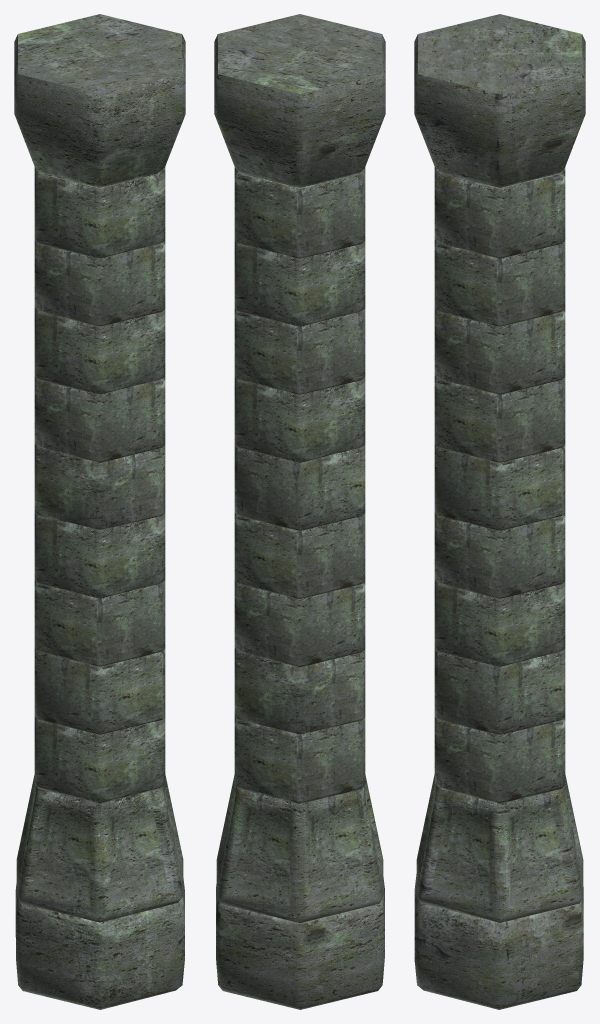
Rendered from bigmodularcolumn.fbx.
The picture shows the model from 3 angles, left to right: view 1: azimuth 30°, elevation 25°; view 2: azimuth 150°, elevation 25°; view 3: azimuth 270°, elevation 25°; orthographic projection.
Parts seen in each view (by area): view 1: Mesh Object; view 2: Mesh Object; view 3: Mesh Object.
Part boxes in pixels (x1,y1,x2,y2): Mesh Object: (14, 14, 185, 1009); Mesh Object: (214, 14, 385, 1009); Mesh Object: (414, 14, 585, 1009).
Size of the model in its own units: 2.53 by 13.25 by 2.24.
